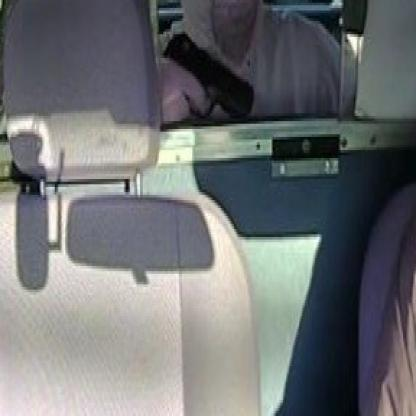gun: (147, 29, 253, 129)
